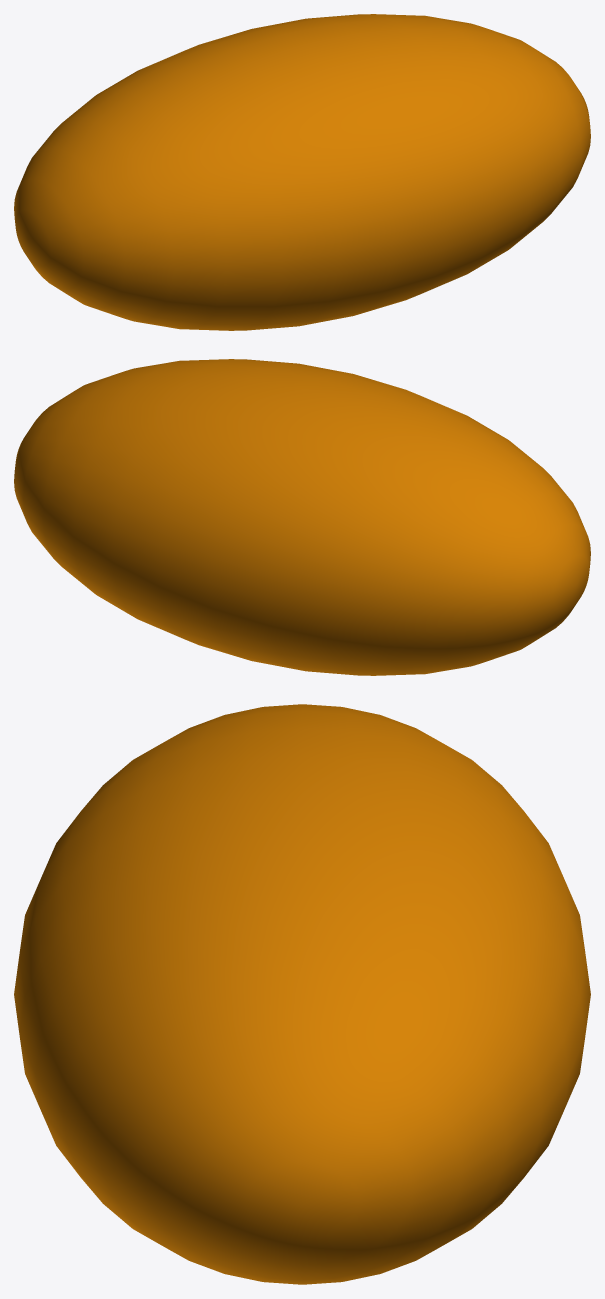
File: NormalShot.fbx
The picture shows the model from 3 angles, top to bottom: view 1: azimuth 30°, elevation 25°; view 2: azimuth 150°, elevation 25°; view 3: azimuth 270°, elevation 25°; orthographic projection. The views are drawn at different scales.
Parts seen in each view (by area): view 1: NormalShot; view 2: NormalShot; view 3: NormalShot.
Boxes of the visible parts, x1,y1,x2,y2 form: NormalShot: [14, 14, 590, 330]; NormalShot: [14, 359, 590, 675]; NormalShot: [14, 704, 590, 1284].
Size of the model in its own units: 58.35 by 25.97 by 33.86.
